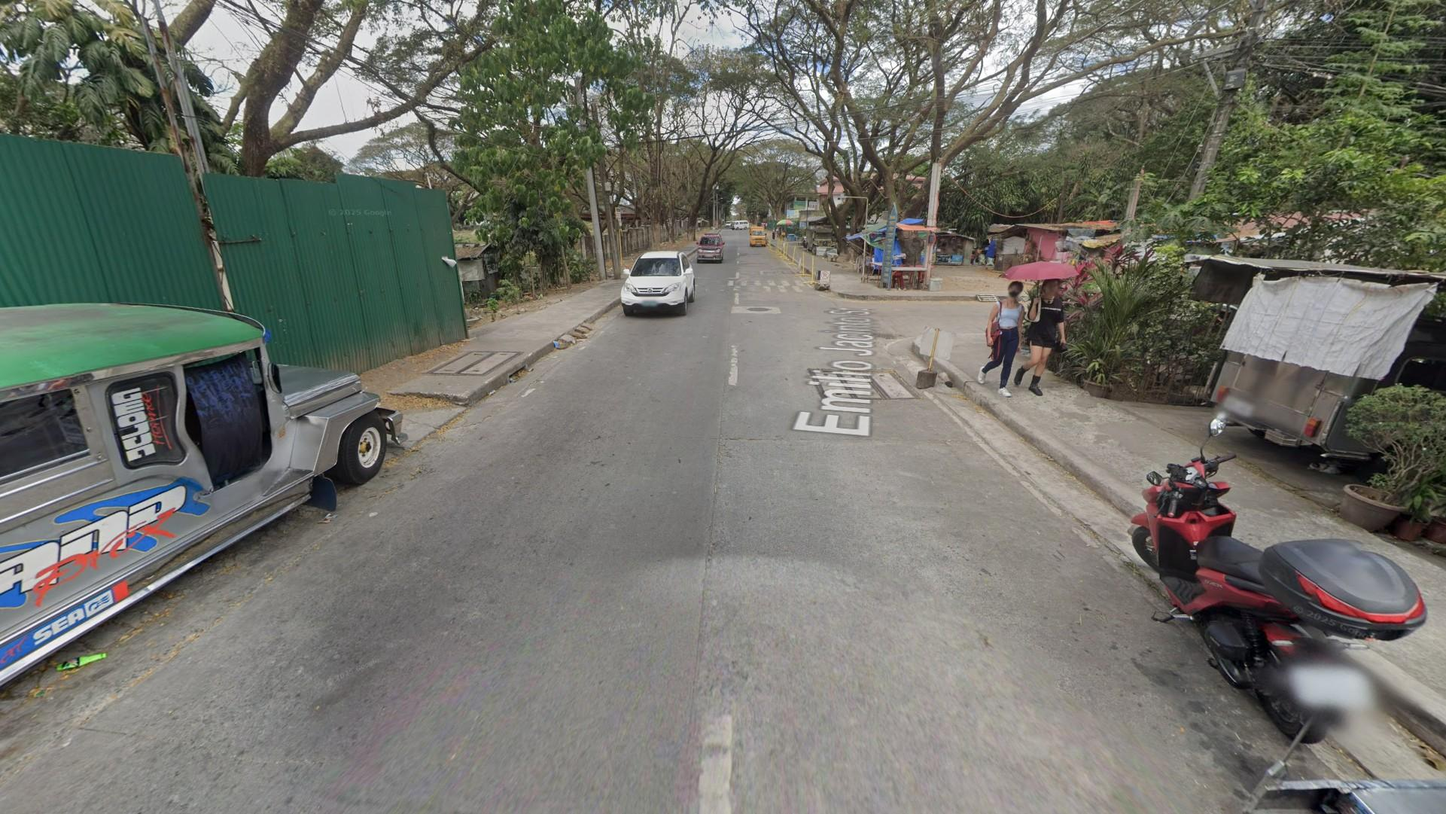pedestrian: (1014, 277, 1066, 396), (977, 280, 1025, 397), (970, 250, 976, 267), (776, 225, 779, 238)
